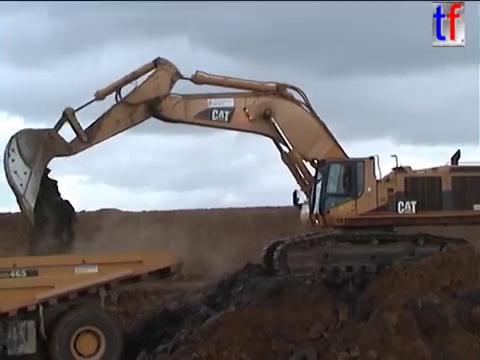excavator: (1, 54, 479, 290)
truck: (1, 245, 185, 360)
